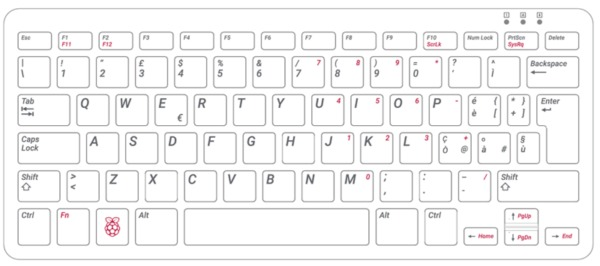keyboard: (8, 21, 584, 253)
